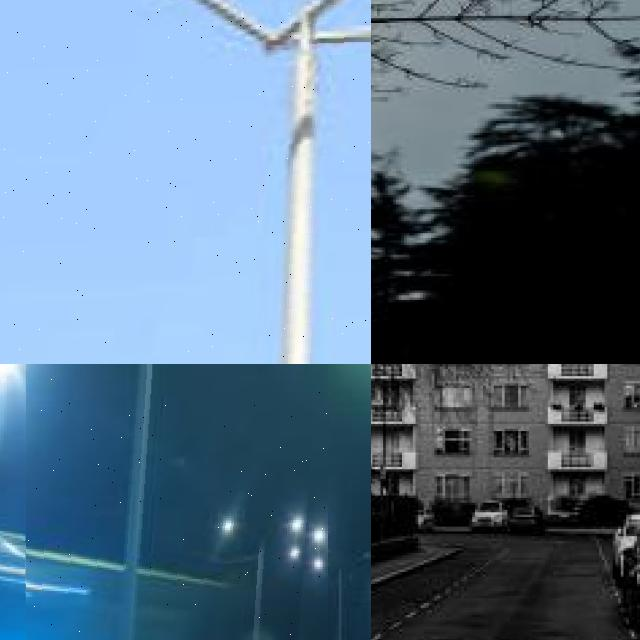street light: (0, 0, 371, 364), (25, 364, 328, 640), (241, 516, 321, 640), (0, 364, 21, 640), (609, 364, 640, 525), (311, 550, 344, 640)
